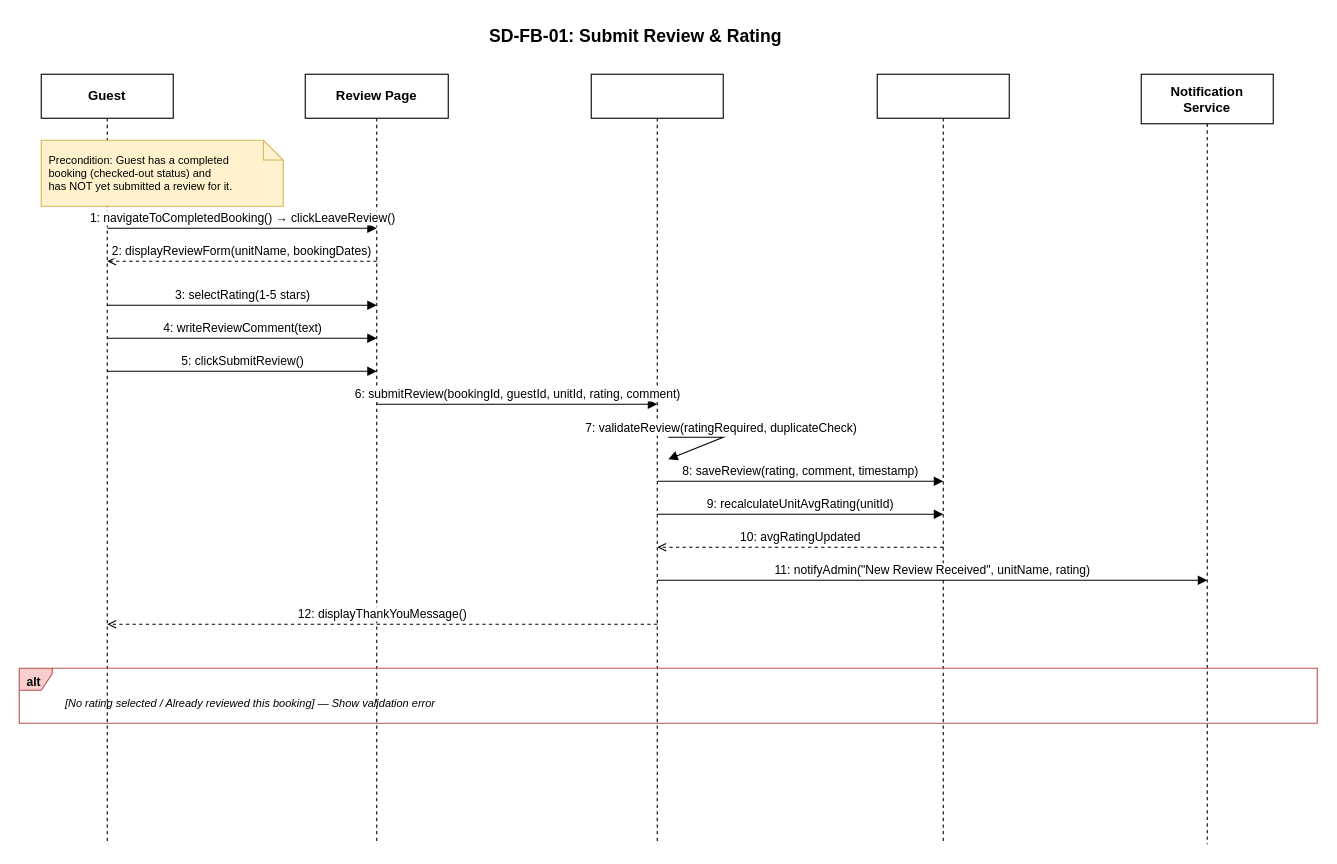
Some shapes in this 1337 by 864 pixel diagram are drawn without their labels. Each missing label, with the box of its shape:
Database: (876, 73, 1009, 844)
System: (590, 73, 723, 844)
